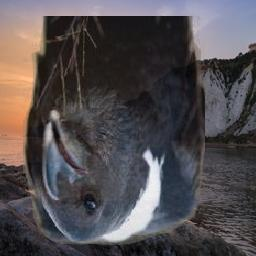Crow: (23, 17, 205, 246)
